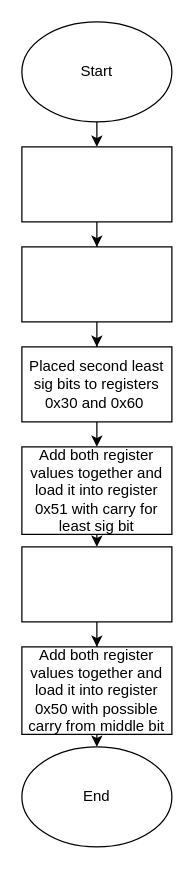
Image size: 194x869. Some labels were removed from this diagram. Each missing label, with the centre of its shape:
"Add both register values together and load it into register 0x52" belongs at pixel 96 284.
"Placed least sig bits to registers 0x40 and 0x42" belongs at pixel 96 184.
"Placed most sig bits to registers 0x20 and 0x70" belongs at pixel 96 584.
